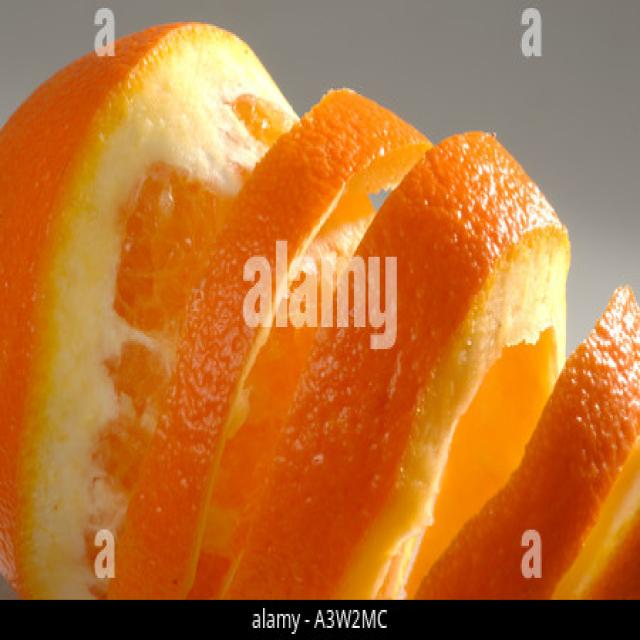orange: (109, 91, 568, 599)
